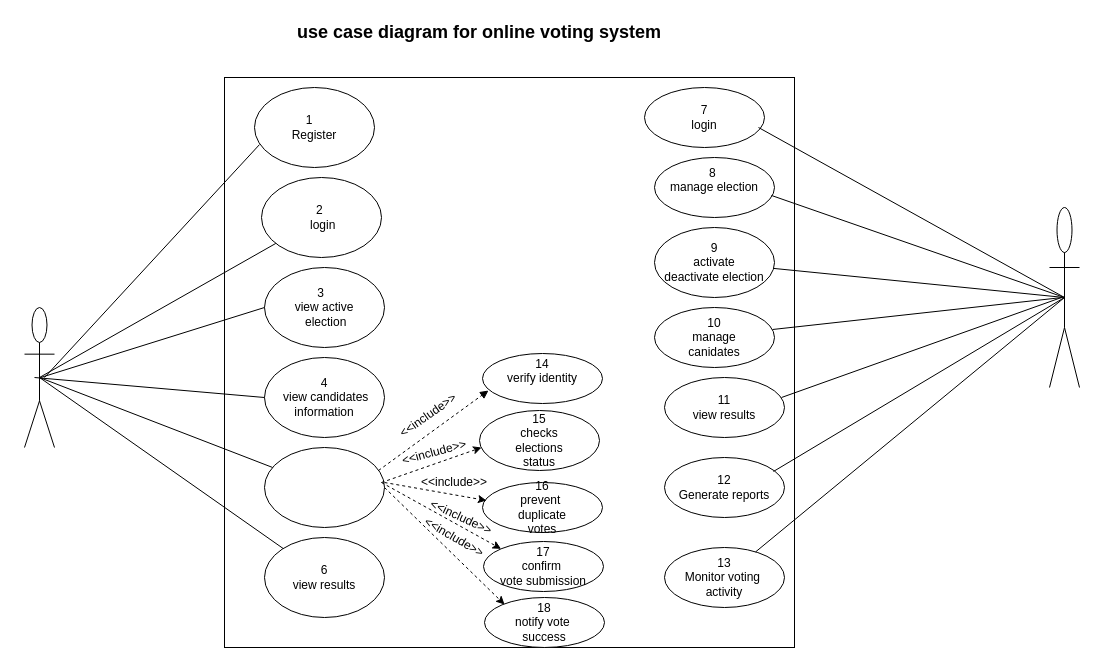
Some shapes in this 1109 by 665 pixel diagram are drawn without their labels. The shapes that lost their labels are listed below. From the top down, each one's centre as x and y in pixels, then its label:
At point 1064,297: "Admin".
At point 39,377: "voter".
At point 324,487: "5 caste vote".
